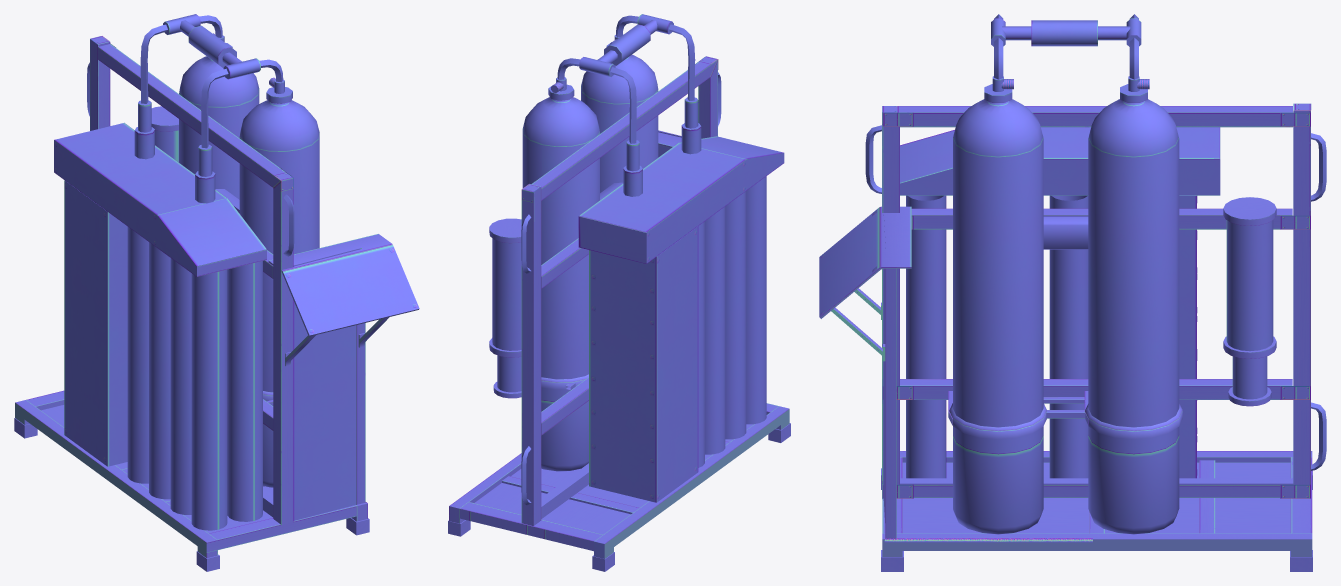
Rendered from Canister_Holder.fbx.
3 renders of one model, left to right at view 1: azimuth 30°, elevation 25°; view 2: azimuth 150°, elevation 25°; view 3: azimuth 270°, elevation 25°, orthographic. The views are drawn at different scales.
Parts seen in each view (by area): view 1: Trim_MetalTrim_Canister; view 2: Trim_MetalTrim_Canister; view 3: Trim_MetalTrim_Canister.
Boxes of the visible parts, box(x1,y1,x2,y2) form: Trim_MetalTrim_Canister: box(14, 14, 419, 571); Trim_MetalTrim_Canister: box(448, 14, 790, 571); Trim_MetalTrim_Canister: box(819, 14, 1326, 571).
Bounding box in the file's own units: 96.29 × 223 × 201.
